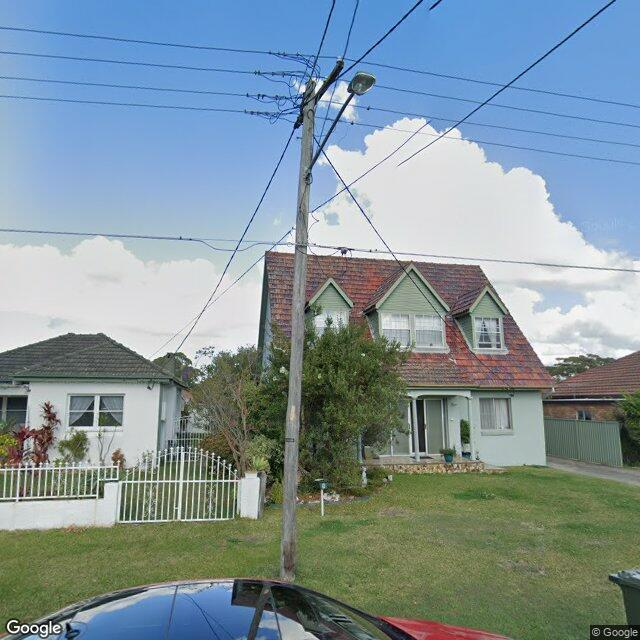crossarm: (294, 61, 344, 129)
streetlight: (306, 72, 378, 186)
timber-pole: (278, 77, 318, 588)
